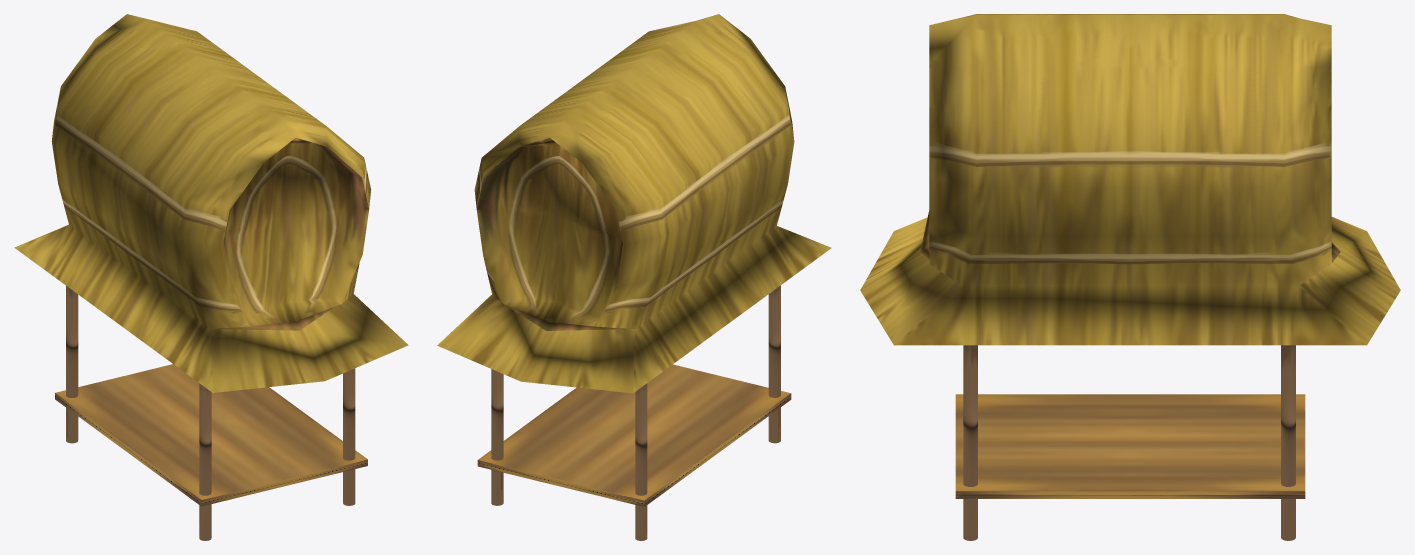
The model's file is rumah sasak 1.fbx.
3 views of the same model, side by side, from view 1: azimuth 30°, elevation 25°; view 2: azimuth 150°, elevation 25°; view 3: azimuth 270°, elevation 25° (orthographic). The views are drawn at different scales.
Parts seen in each view (by area): view 1: Cube; view 2: Cube; view 3: Cube.
Boxes of the visible parts, x1,y1,x2,y2 form: Cube: [14, 14, 408, 540]; Cube: [437, 14, 831, 540]; Cube: [860, 14, 1400, 540].
Size of the model in its own units: 424 by 835 by 850.
